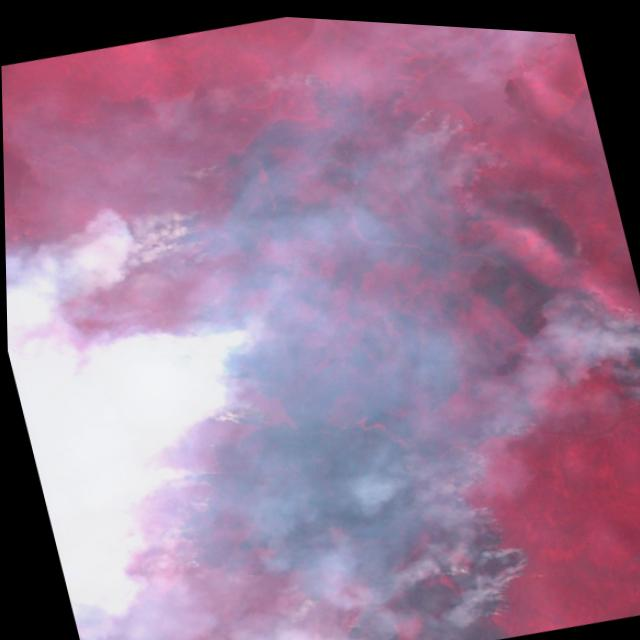fire: (411, 427, 545, 640), (140, 448, 248, 586), (186, 300, 287, 447), (413, 82, 513, 201), (268, 541, 368, 640), (589, 288, 640, 406)
